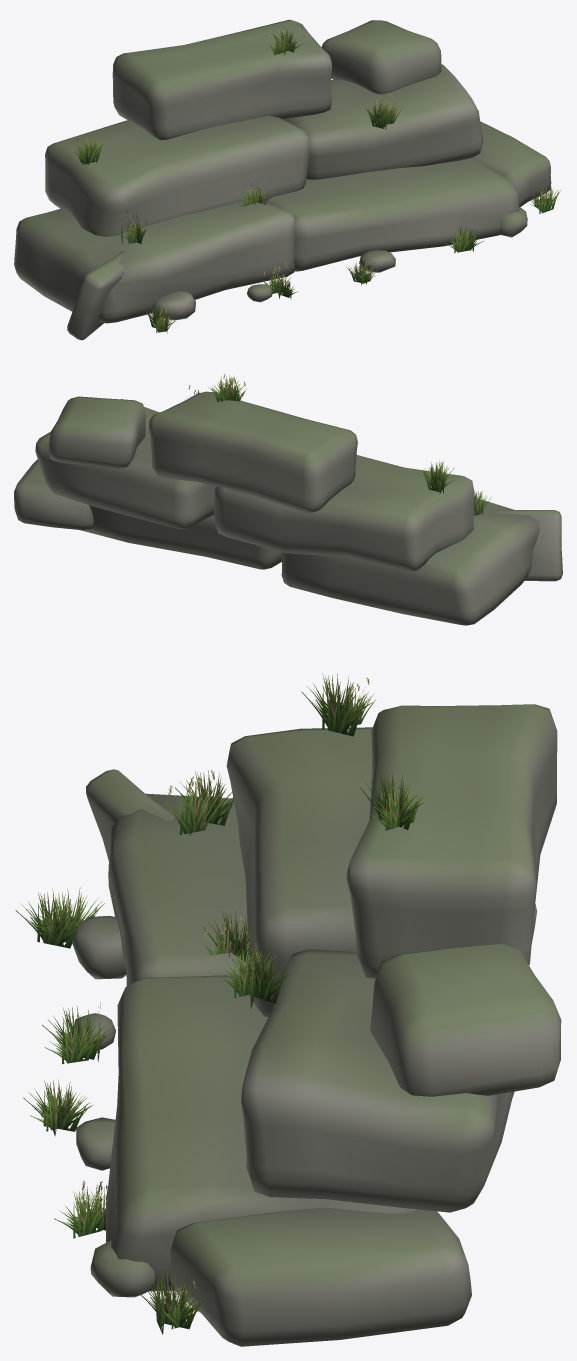
Rendered from cliff_a.glb.
3 renders of one model, top to bottom at view 1: azimuth 30°, elevation 25°; view 2: azimuth 150°, elevation 25°; view 3: azimuth 270°, elevation 25°, orthographic. The views are drawn at different scales.
Visible parts, largest first — view 1: cliff_a_mesh; view 2: cliff_a_mesh; view 3: cliff_a_mesh.
Part boxes in pixels (<box>): cliff_a_mesh: <box>14,19,560,340</box>; cliff_a_mesh: <box>14,374,562,625</box>; cliff_a_mesh: <box>15,673,561,1346</box>.
Size of the model in its own units: 7.95 by 3.02 by 3.85.
Materials: 2 (1 with a texture image).
